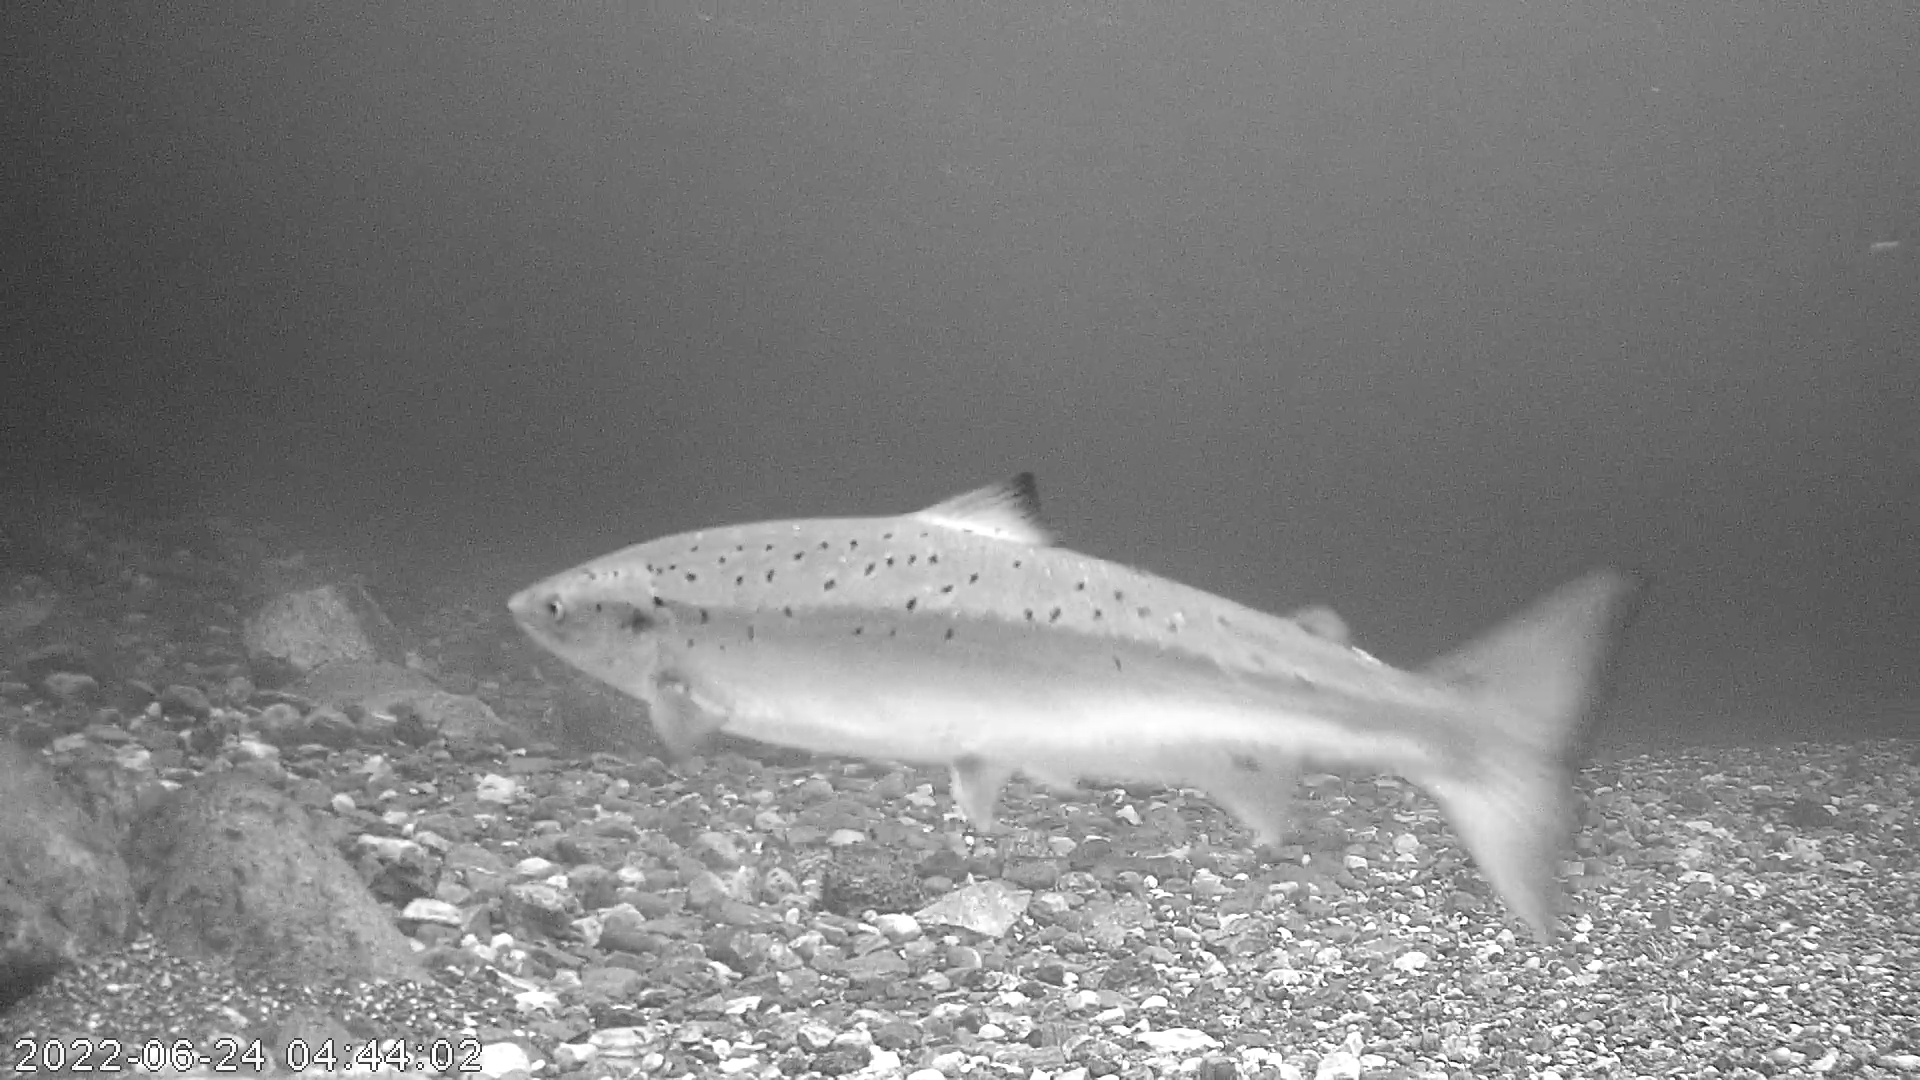salmon: (502, 468, 1647, 943)
